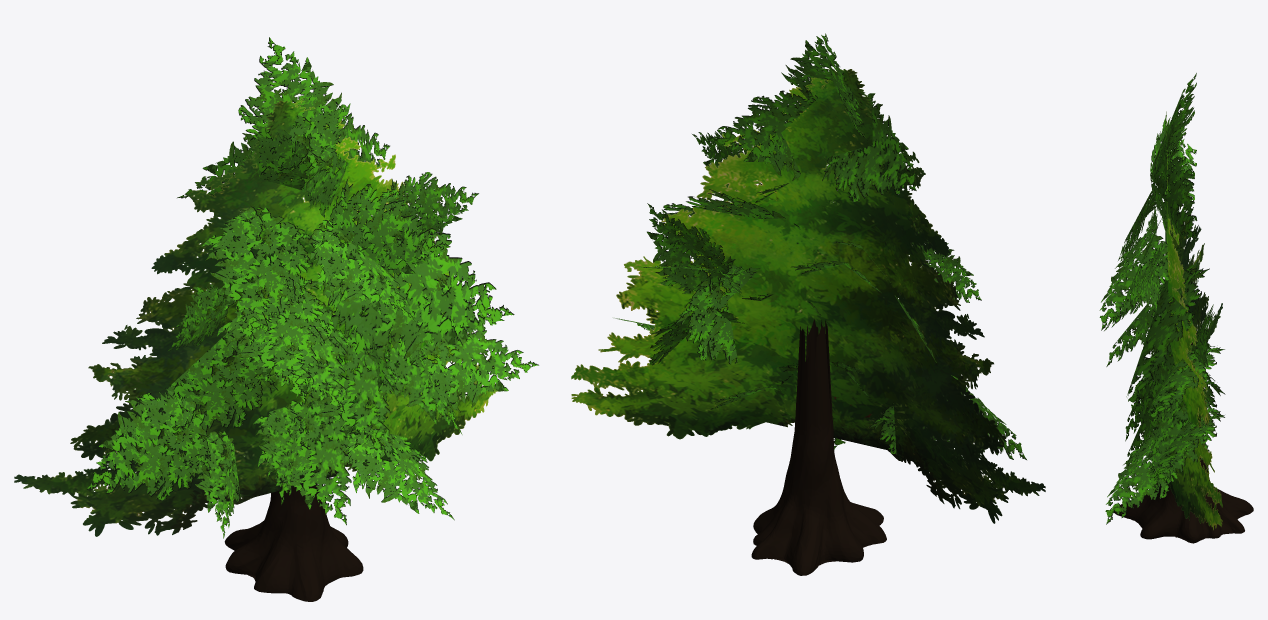
File: fin_tree.FBX
3 renders of one model, left to right at view 1: azimuth 30°, elevation 25°; view 2: azimuth 150°, elevation 25°; view 3: azimuth 270°, elevation 25°, orthographic. The views are drawn at different scales.
Visible parts, largest first — view 1: Plane001, Plane004, Cylinder001, Plane014, Plane005, Plane018, Plane015, Plane007, Plane003, Plane008, Plane013, Plane009 (+11 smaller); view 2: Plane001, Cylinder001, Plane017, Plane020, Plane016, Plane010, Plane018, Plane004, Plane019, Plane012, Plane021, Plane014 (+1 smaller); view 3: Plane001, Cylinder001, Plane004, Plane006, Plane016, Plane009, Plane012, Plane002, Plane013, Plane018, Plane093, Plane010 (+8 smaller).
Part boxes in pixels (x1,y1,x2,y2): Plane001: [14, 98, 497, 536]; Plane004: [323, 216, 514, 365]; Cylinder001: [224, 484, 363, 601]; Plane014: [87, 388, 211, 500]; Plane005: [201, 206, 318, 346]; Plane018: [238, 37, 350, 167]; Plane015: [314, 179, 450, 291]; Plane007: [217, 277, 330, 402]; Plane003: [163, 330, 278, 444]; Plane008: [257, 400, 357, 525]; Plane013: [411, 317, 538, 413]; Plane009: [344, 429, 454, 520]; Plane001: [571, 68, 1045, 523]; Cylinder001: [751, 319, 886, 575]; Plane017: [822, 93, 916, 201]; Plane020: [647, 203, 735, 293]; Plane016: [707, 85, 827, 180]; Plane010: [675, 264, 759, 364]; Plane018: [781, 33, 867, 140]; Plane004: [662, 189, 800, 249]; Plane019: [911, 242, 981, 302]; Plane012: [649, 308, 744, 365]; Plane021: [692, 129, 746, 201]; Plane014: [951, 375, 1026, 459]; Plane001: [1165, 111, 1222, 530]; Cylinder001: [1113, 342, 1253, 543]; Plane004: [1126, 268, 1209, 409]; Plane006: [1099, 229, 1181, 330]; Plane016: [1150, 144, 1197, 243]; Plane009: [1105, 435, 1177, 524]; Plane012: [1146, 397, 1224, 492]; Plane002: [1147, 344, 1224, 422]; Plane013: [1148, 414, 1224, 480]; Plane018: [1150, 73, 1196, 178]; Plane093: [1106, 284, 1166, 366]; Plane010: [1146, 343, 1225, 430].
Bounding box in the file's own units: 240 × 242 × 86.06.
